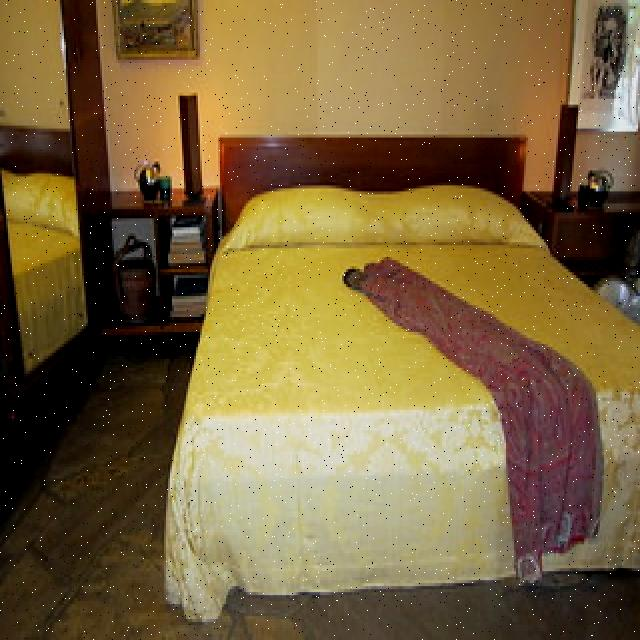bed: (166, 184, 640, 598)
